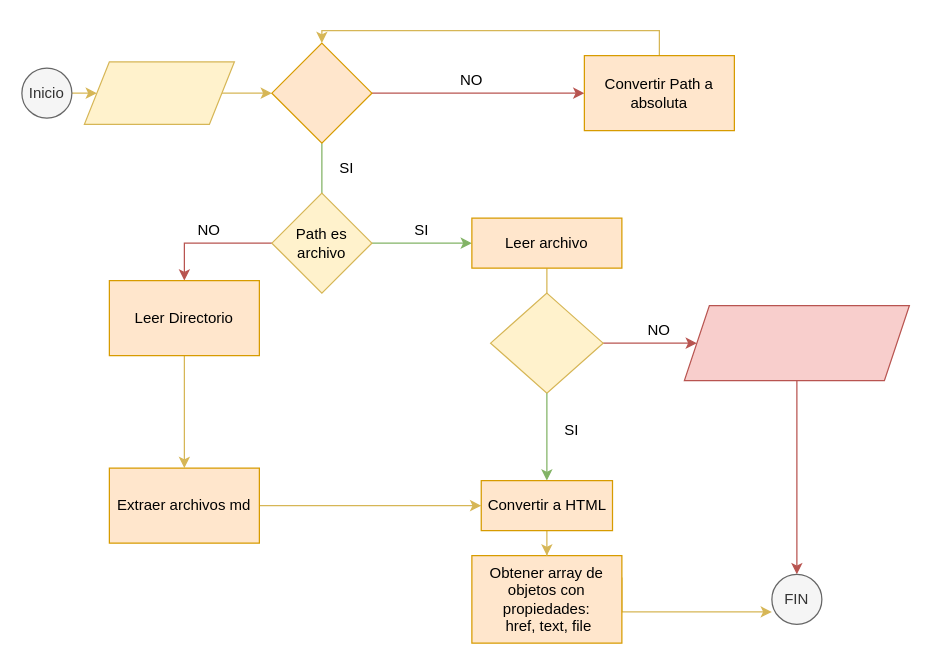
Image size: 931x665. Some labels were removed from this diagram. The shapes that lost their labels are listed below. From the top down, each one's centre as x and y in pixels, then its label:
[158,92]: path
[321,92]: ¿path es absoluta?
[546,342]: Archivo es md
[796,342]: No se encontró archivos md
